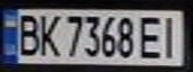3: (81, 12, 103, 59)
6: (100, 12, 121, 59)
7: (60, 12, 84, 59)
8: (115, 12, 139, 60)
B: (12, 10, 42, 56)
E: (136, 12, 166, 60)
I: (157, 12, 184, 59)
K: (36, 10, 63, 57)
